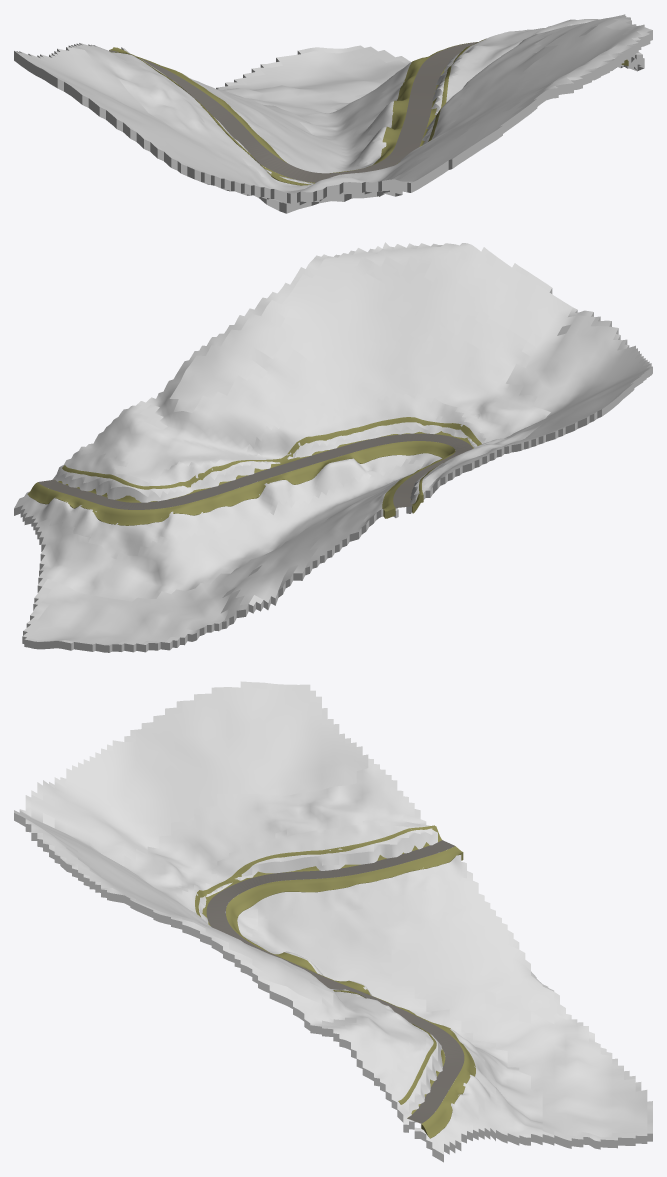
The model's file is conz_68.glb.
3 views of the same model, one above another, from view 1: azimuth 30°, elevation 25°; view 2: azimuth 150°, elevation 25°; view 3: azimuth 270°, elevation 25° (orthographic). The views are drawn at different scales.
Parts seen in each view (by area): view 1: terrain68, road68, verge68R, verge68L; view 2: terrain68, verge68R, road68, verge68L; view 3: terrain68, road68, verge68R, verge68L.
Part boxes in pixels (x1=…): terrain68: x1=14, y1=14, x2=652, y2=213; road68: x1=109, y1=42, x2=477, y2=182; verge68R: x1=110, y1=42, x2=473, y2=173; verge68L: x1=110, y1=38, x2=628, y2=185; terrain68: x1=14, y1=242, x2=652, y2=652; verge68R: x1=27, y1=441, x2=455, y2=525; road68: x1=38, y1=433, x2=472, y2=509; verge68L: x1=55, y1=417, x2=481, y2=513; terrain68: x1=14, y1=681, x2=652, y2=1162; road68: x1=206, y1=840, x2=464, y2=1123; verge68R: x1=226, y1=846, x2=475, y2=1138; verge68L: x1=195, y1=825, x2=445, y2=1118.
Bounding box in the file's own units: 224 × 92.09 × 220.
